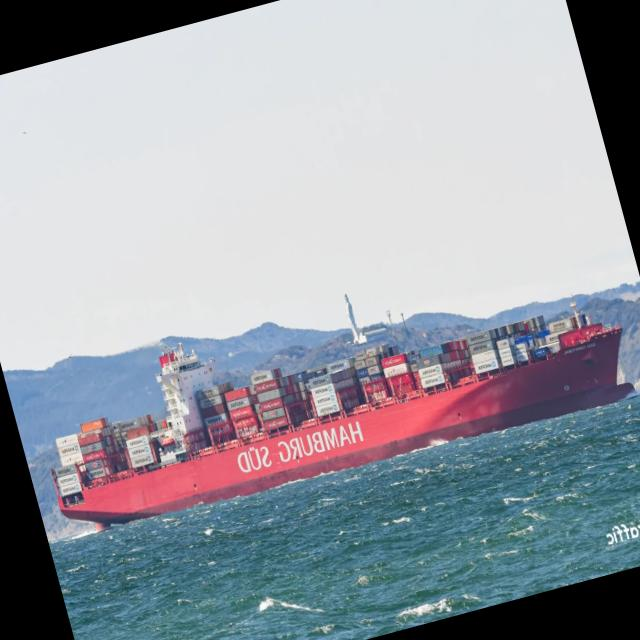Cargo: (51, 301, 633, 528)
